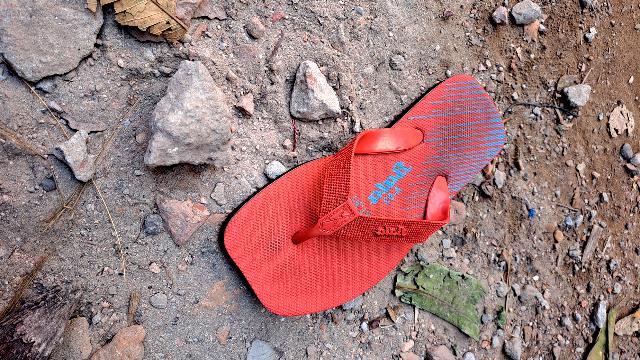sandal: (193, 32, 523, 340)
